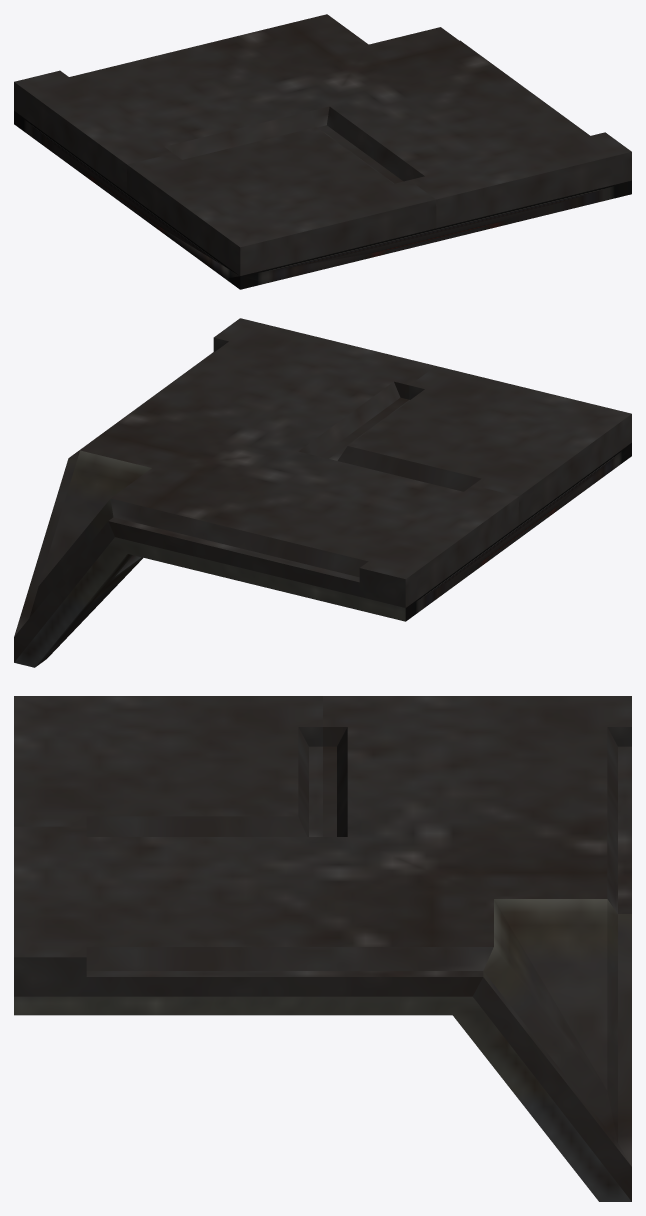
File: Ceiling_combined_corner_out.FBX
3 views of the same model, one above another, from view 1: azimuth 30°, elevation 25°; view 2: azimuth 150°, elevation 25°; view 3: azimuth 270°, elevation 25° (orthographic). The views are drawn at different scales.
Parts seen in each view (by area): view 1: Ceiling_combined_corner_out; view 2: Ceiling_combined_corner_out; view 3: Ceiling_combined_corner_out.
Part boxes in pixels (x1=…): Ceiling_combined_corner_out: x1=14, y1=14, x2=631, y2=289; Ceiling_combined_corner_out: x1=14, y1=318, x2=631, y2=667; Ceiling_combined_corner_out: x1=14, y1=696, x2=631, y2=1201.
Bounding box in the file's own units: 300 × 131 × 300.
